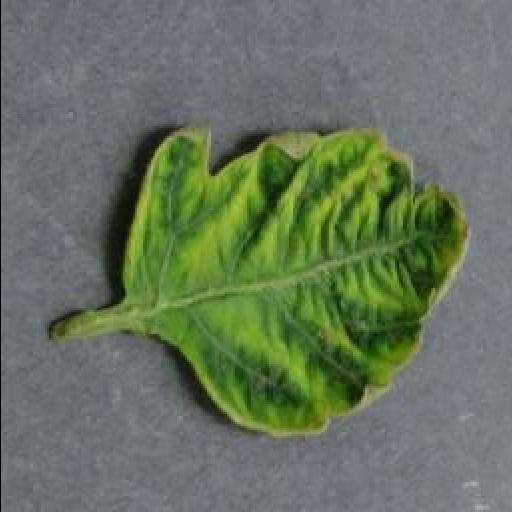disease_tomato: (114, 126, 472, 438)
